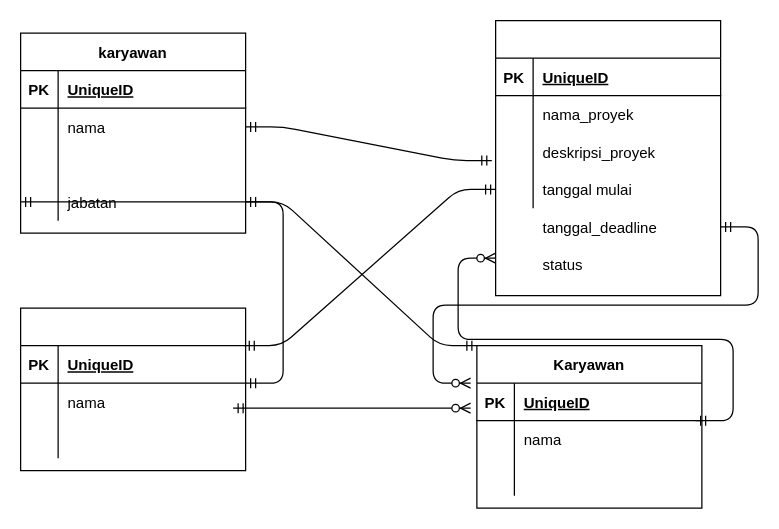
Some shapes in this 779 by 529 pixel diagram are drawn without their labels. The box of each missing label's shape, as (x1, y1, x2, y2) in pixels:
Manager: (19, 307, 246, 471)
Proyek_tabel: (494, 19, 721, 296)
